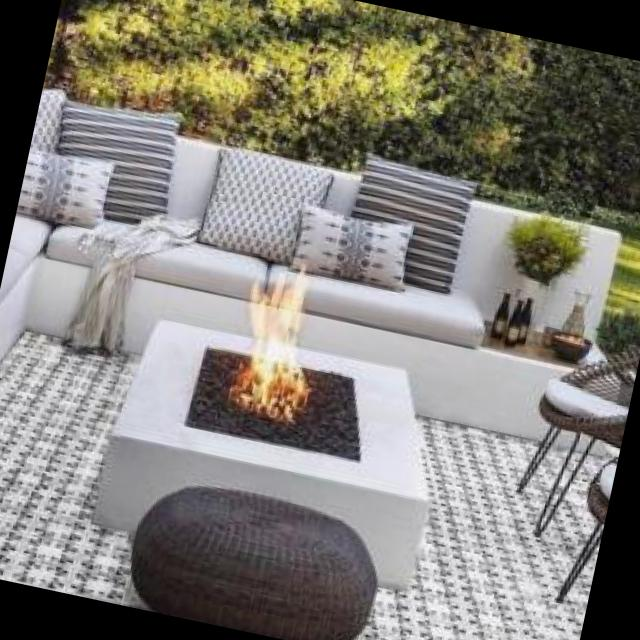fire: (213, 252, 329, 429)
